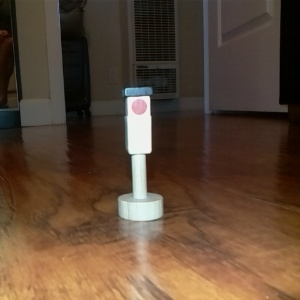traffic light red: (115, 84, 165, 224)
